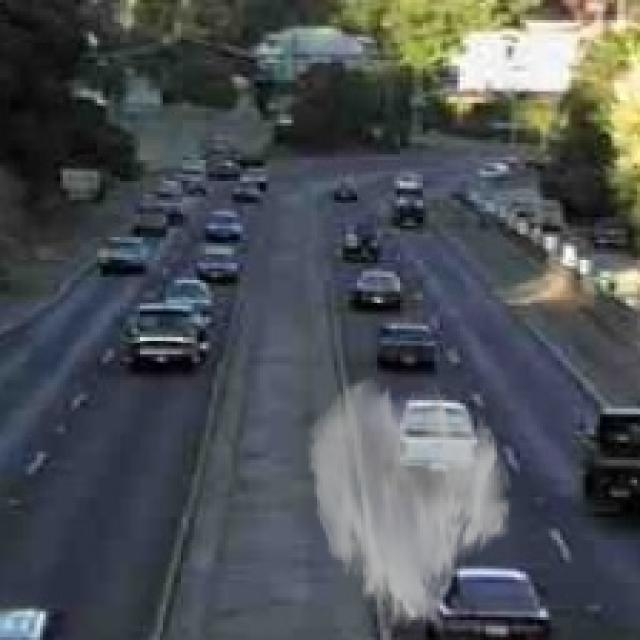smoke: (306, 374, 517, 637)
